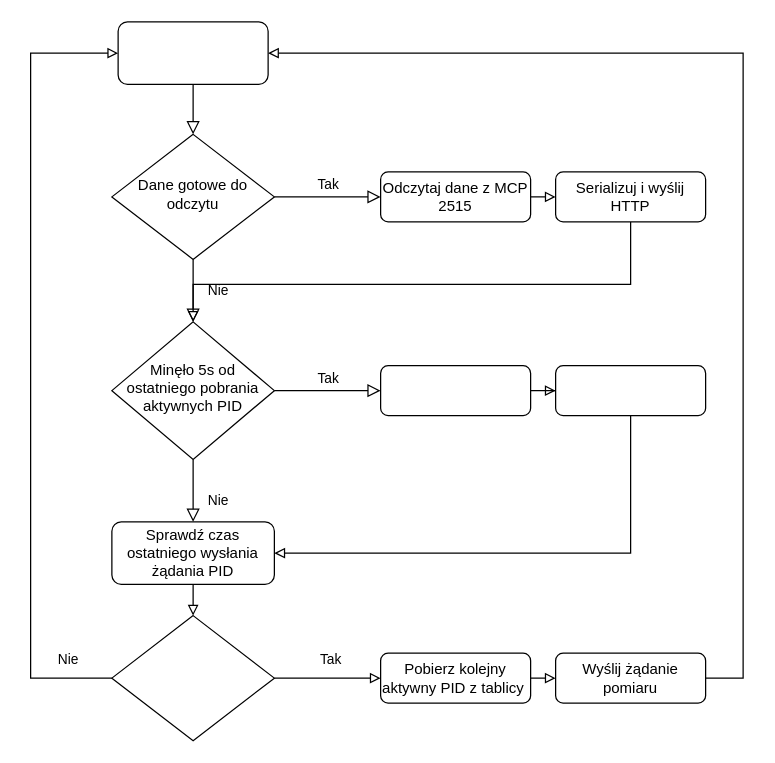
Some shapes in this 775 by 763 pixel diagram are drawn without their labels. The box of each missing label's shape, as (x1, y1, x2, y2) in pixels:
Minęło 200 ms?: (111, 614, 274, 741)
Pobierz aktywne PID przez HTTP: (379, 364, 531, 416)
Sprawdż czy są dane pomiarowe do odczytu: (117, 21, 268, 84)
Zdeserializuj i zapisz w tablicy: (554, 364, 706, 416)
